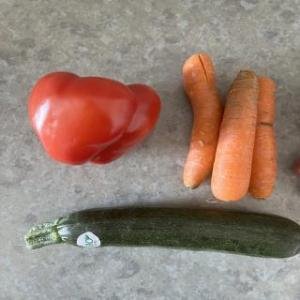bell_pepper: (22, 65, 168, 177)
carrot: (209, 64, 263, 204), (177, 50, 227, 190), (250, 68, 290, 204)
zucchini: (15, 200, 300, 270)
